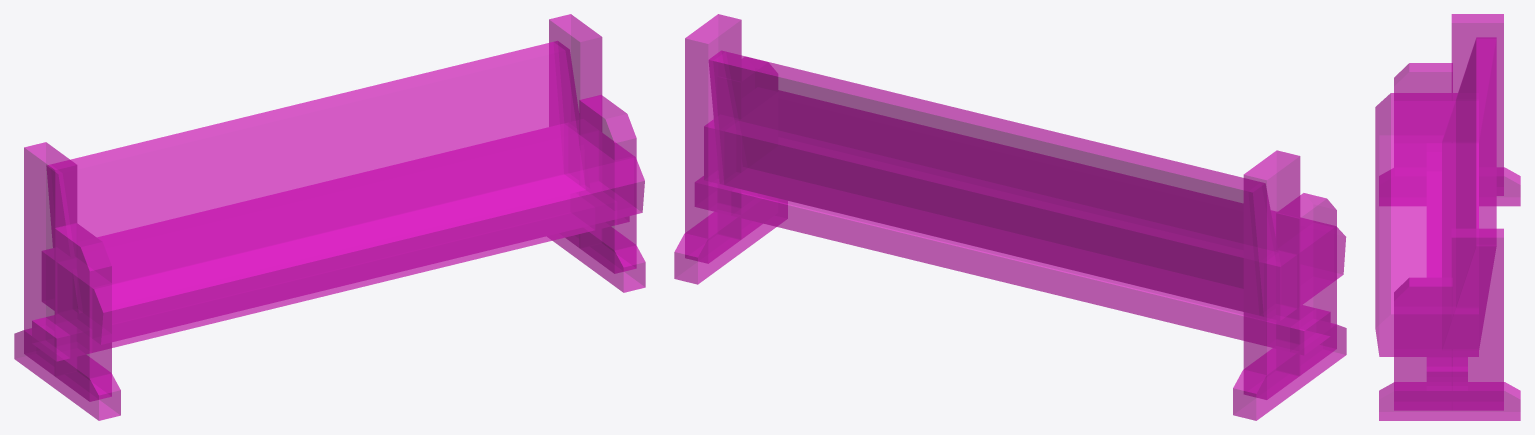
File: SM_Prop_Bench_Pew_01_Collision.fbx
The picture shows the model from 3 angles, left to right: view 1: azimuth 30°, elevation 25°; view 2: azimuth 150°, elevation 25°; view 3: azimuth 270°, elevation 25°; orthographic projection. The views are drawn at different scales.
Parts seen in each view (by area): view 1: SM_Prop_Bench_Pew_01_Collision; view 2: SM_Prop_Bench_Pew_01_Collision; view 3: SM_Prop_Bench_Pew_01_Collision.
Boxes of the visible parts, left/top/right/bottom form: SM_Prop_Bench_Pew_01_Collision: left=14, top=14, right=645, bottom=420; SM_Prop_Bench_Pew_01_Collision: left=674, top=14, right=1346, bottom=420; SM_Prop_Bench_Pew_01_Collision: left=1375, top=14, right=1520, bottom=420.
Bounding box in the file's own units: 277 × 101 × 72.66.
